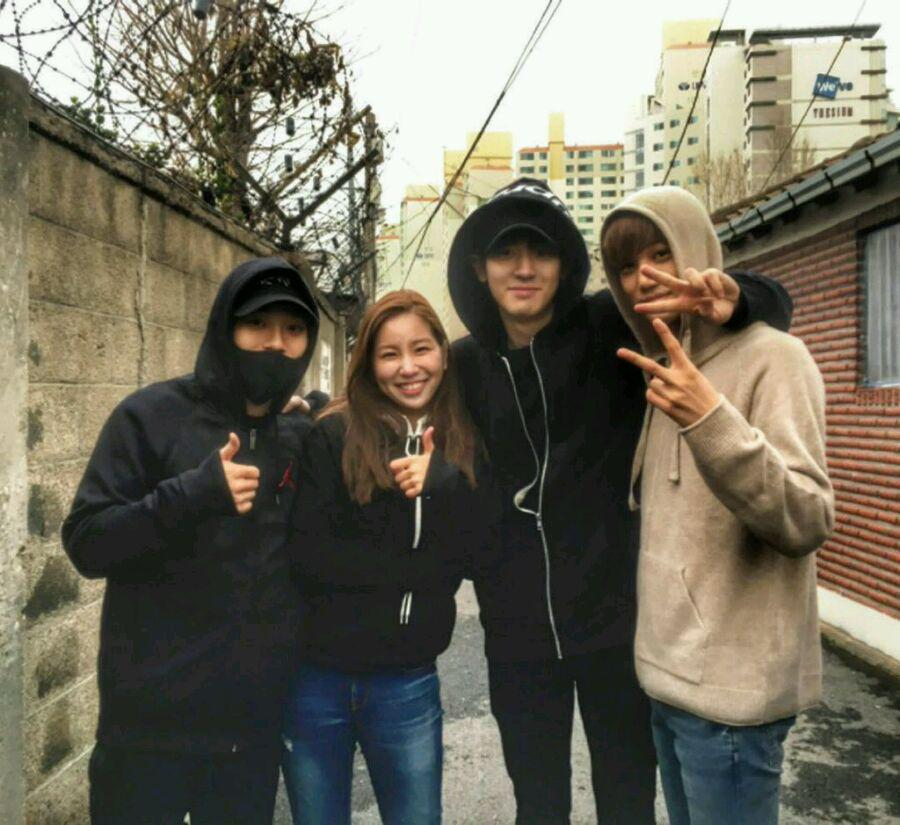NONE: (490, 237, 555, 315), (374, 331, 439, 407), (618, 247, 681, 321)
WRONG: (223, 307, 311, 395)
